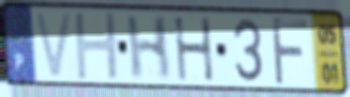3: (231, 16, 265, 86)
F: (269, 15, 311, 88)
H: (72, 10, 123, 83), (124, 14, 172, 82), (171, 15, 217, 83)
V: (32, 9, 76, 81)
